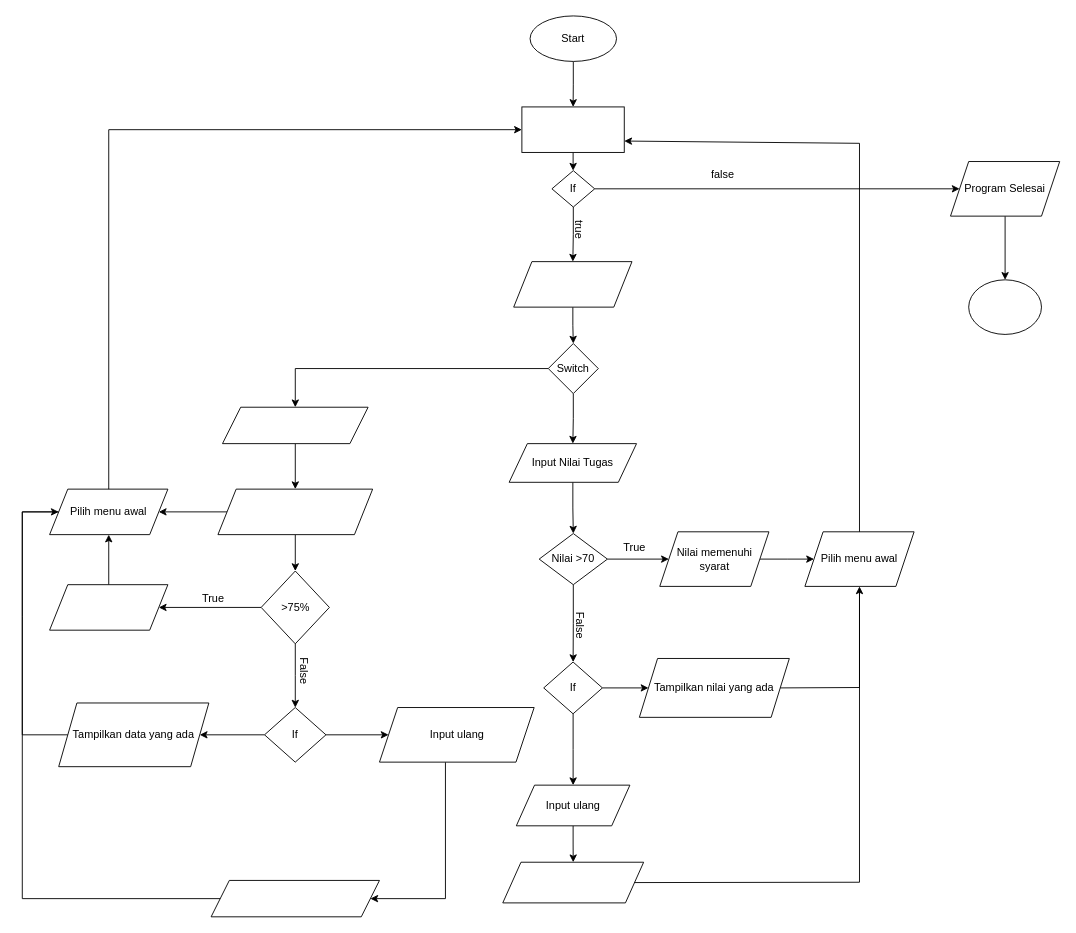
Image size: 1076x933. Some labels were removed from this diagram. Here are the shapes that lost their labels. From the top down, the centre of each, then its label:
At point 572,129: "ulang".
At point 572,284: "Masukkan Pilihan".
At point 1004,306: "End".
At point 295,425: "Input Jumlah kehadiran".
At point 295,511: "Menampilkan Presentase Kehadiran".
At point 108,607: "Memenuhi syarat kehadiran".
At point 294,898: "Menampilkan kehadiran baru".
At point 573,882: "Menampilkan nilai baru".
